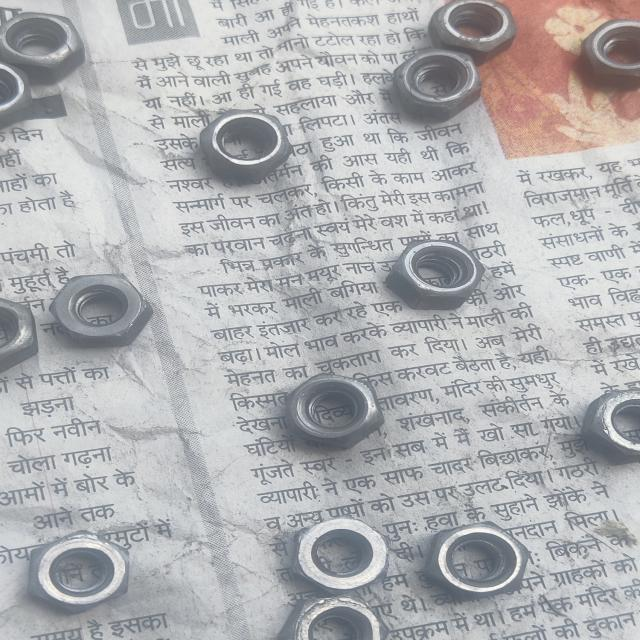disinfected nut: (30, 532, 130, 612), (423, 522, 527, 598), (50, 275, 153, 348), (283, 375, 383, 448), (290, 518, 387, 592), (387, 240, 483, 310), (200, 110, 293, 182), (393, 48, 483, 122), (0, 12, 83, 82), (430, 0, 517, 60), (280, 595, 387, 640), (583, 388, 640, 462), (580, 20, 640, 90), (0, 298, 40, 372), (0, 61, 33, 129)
